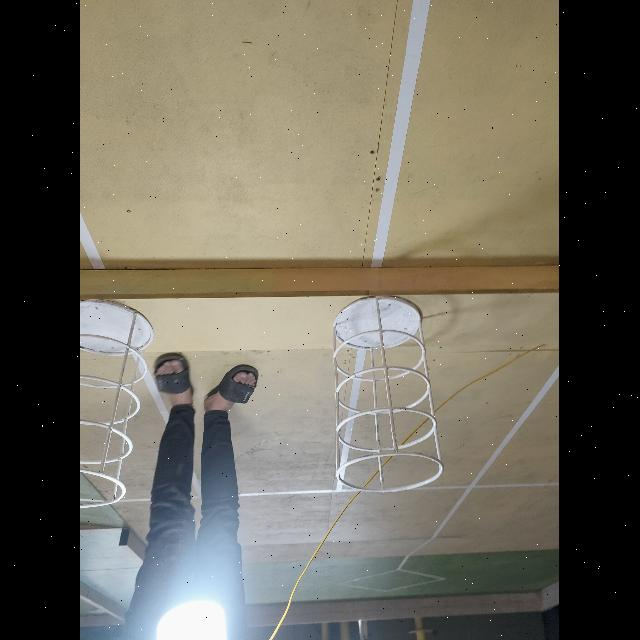S: (330, 293, 444, 495), (80, 295, 160, 518)
